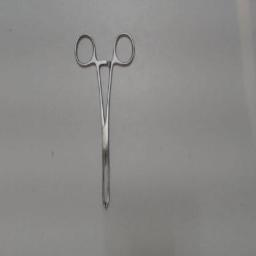Allis Tissue Forceps: (70, 29, 140, 219)
